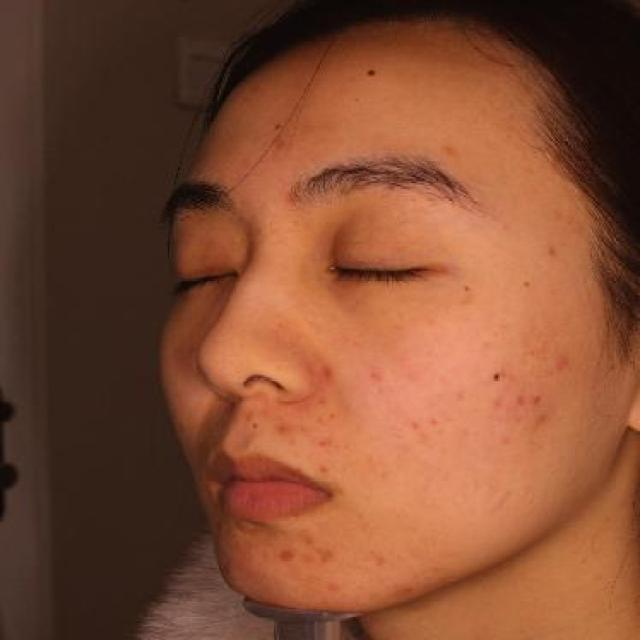darkspot: (308, 356, 347, 393), (357, 365, 395, 394), (545, 342, 572, 379), (310, 543, 345, 571), (267, 543, 300, 568)
